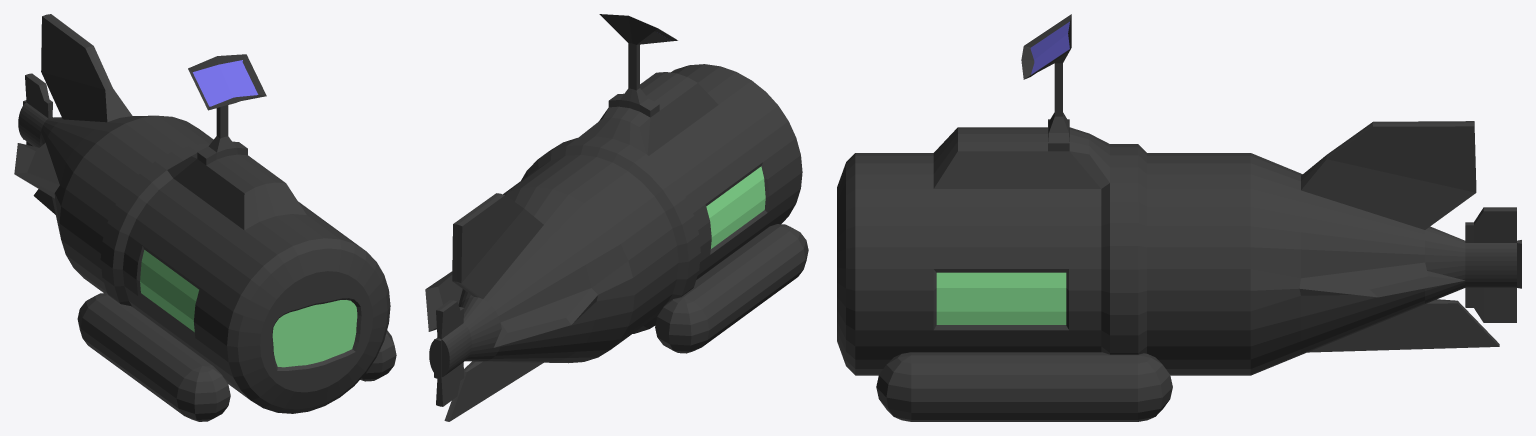
The model's file is Submarine_Textured_Baked.fbx.
3 views of the same model, side by side, from view 1: azimuth 30°, elevation 25°; view 2: azimuth 150°, elevation 25°; view 3: azimuth 270°, elevation 25° (orthographic). The views are drawn at different scales.
Visible parts, largest first — view 1: Cylinder; view 2: Cylinder; view 3: Cylinder.
Boxes of the visible parts, bbox=[...] form: Cylinder: bbox=[14, 14, 396, 421]; Cylinder: bbox=[425, 14, 808, 421]; Cylinder: bbox=[837, 14, 1521, 421].
Bounding box in the file's own units: 265 × 345 × 614.
